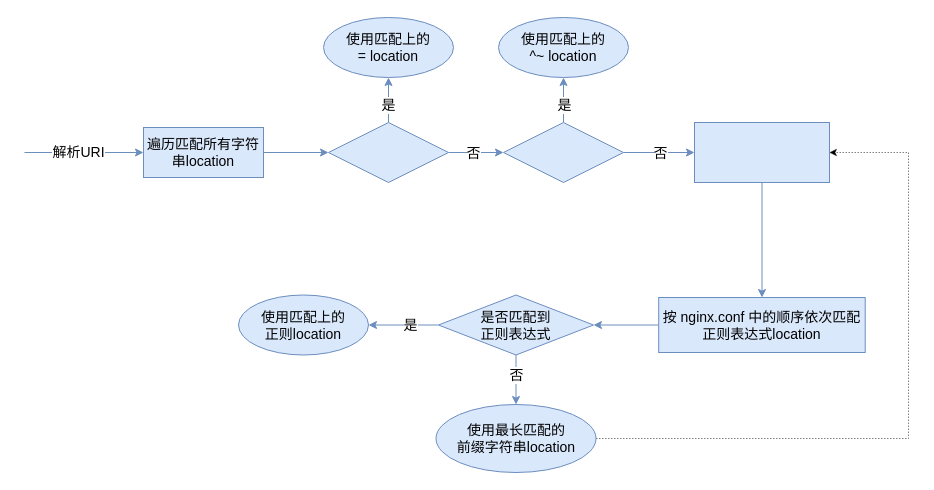
Some shapes in this 934 by 490 pixel diagram are drawn without their labels. Here are the shapes that lost their labels. From the top down, the centre of each, then its label:
At pixel 388 152: "是否匹配到 =".
At pixel 563 152: "是否匹配到 ^~".
At pixel 762 152: "记住最长匹配的前缀字符串location".
